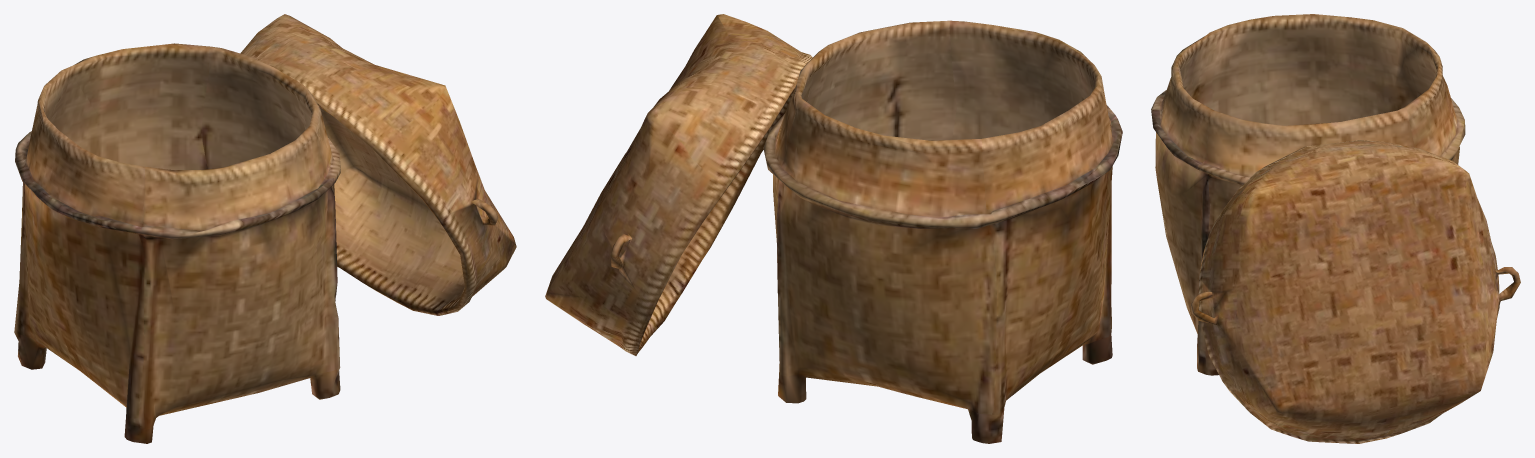
The model's file is wicker_basket_02.glb.
3 renders of one model, left to right at view 1: azimuth 30°, elevation 25°; view 2: azimuth 150°, elevation 25°; view 3: azimuth 270°, elevation 25°, orthographic. The views are drawn at different scales.
Parts seen in each view (by area): view 1: wicker_basket_02_base; view 2: wicker_basket_02_base; view 3: wicker_basket_02_base.
Part boxes in pixels (left/top/right/bottom): wicker_basket_02_base: left=14, top=14, right=516, bottom=443; wicker_basket_02_base: left=545, top=14, right=1122, bottom=443; wicker_basket_02_base: left=1151, top=14, right=1520, bottom=443.
Size of the model in its own units: 0.3461 by 0.2 by 0.2541.
1 material, 1 textured.
